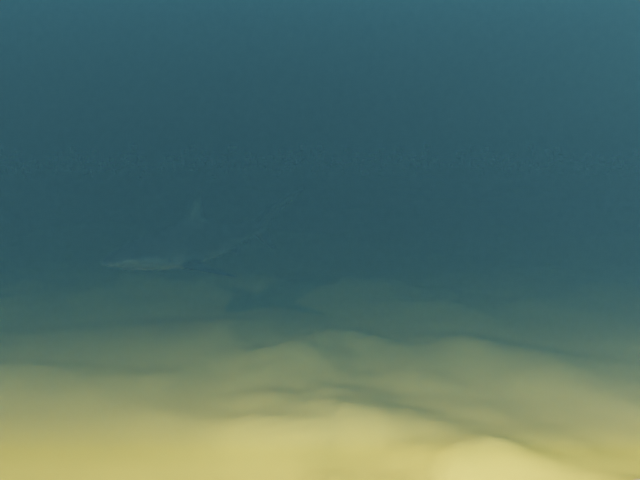Carribean Shark.001: (100, 188, 302, 277)
